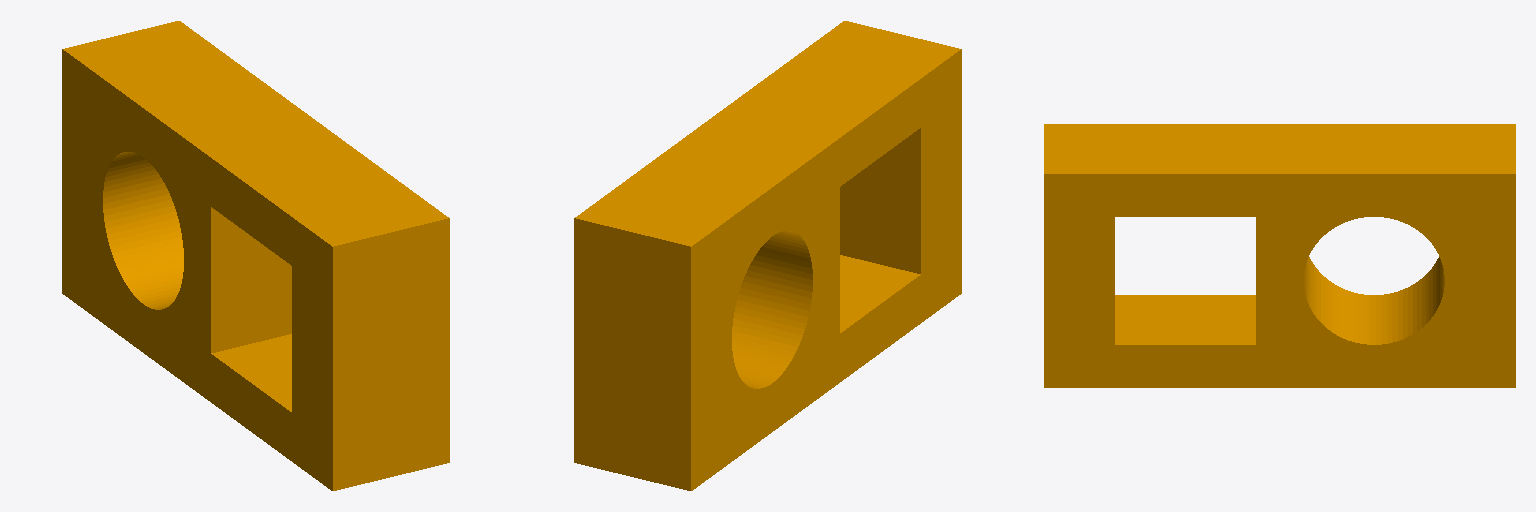
robot.urdf — shape_wall_two_holes:
<?xml version="1.0"?>
<robot name="shape_wall_two_holes">
    <link name="shape_wall_two_holes">
        <visual>
            <origin rpy="-1.5708 0 0" xyz="0 0 0"/>
            <geometry>
                <mesh filename="shape_wall_two_holes/shape_wall_two_holes_visual.obj"/>
            </geometry>
        </visual>
        <collision>
            <origin xyz="0.0 0.0 0.0"/>
            <geometry>
                <mesh filename="shape_wall_two_holes/shape_wall_two_holes_col.obj"/>
            </geometry>
        </collision>
        <inertial>
            <origin xyz="0.0 0.0 0.0"/>
            <mass value="500"/>
            <friction value="1.0"/>
            <inertia ixx="1000.0" ixy="0"  ixz="0" iyy="1000.0" iyz="0" izz="1000.0" />
        </inertial>
        <gazebo>
            <static>true</static>
        </gazebo>
    </link>
</robot>

--- What the picture shows (computed from the rendered views, not written in the file) ---
Views: 3 orthographic renders of the robot side by side, from view 1: azimuth 30°, elevation 25°; view 2: azimuth 150°, elevation 25°; view 3: azimuth 270°, elevation 25°.
Robot: shape_wall_two_holes — 1 links, 0 joints (none); root link shape_wall_two_holes; default pose: every joint at zero.
Links seen in each view (by area): view 1: shape_wall_two_holes; view 2: shape_wall_two_holes; view 3: shape_wall_two_holes.
Link boxes in pixels (bbox=[...]): shape_wall_two_holes: bbox=[62, 21, 449, 490]; shape_wall_two_holes: bbox=[574, 21, 961, 490]; shape_wall_two_holes: bbox=[1044, 124, 1515, 387].
Size in the robot's own frame: 0.25 by 1 by 0.5 metres.
Meshes: 1 distinct files referenced, 1 mesh visuals loaded (1 OBJ).